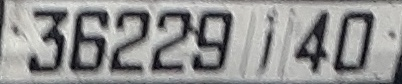0: (333, 11, 378, 75)
2: (110, 10, 152, 73), (154, 9, 191, 73)
3: (27, 4, 68, 74)
4: (294, 8, 333, 74)
6: (68, 8, 110, 73)
9: (192, 8, 235, 74)
a: (256, 6, 279, 76)
